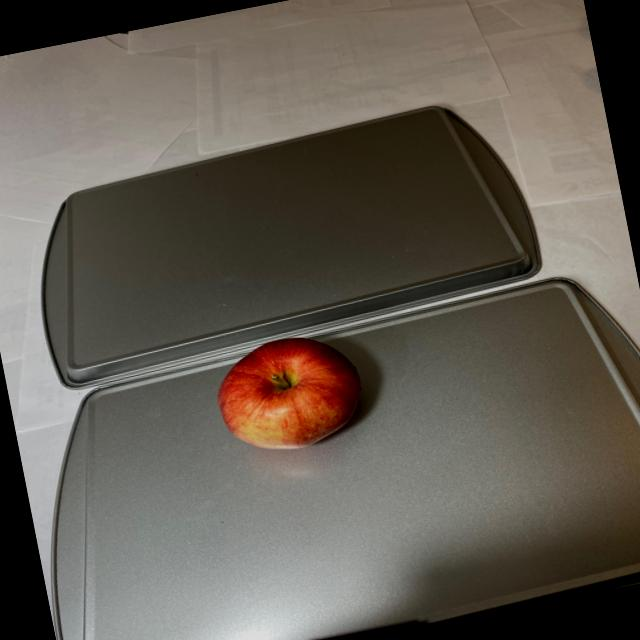apple: (208, 327, 376, 462)
